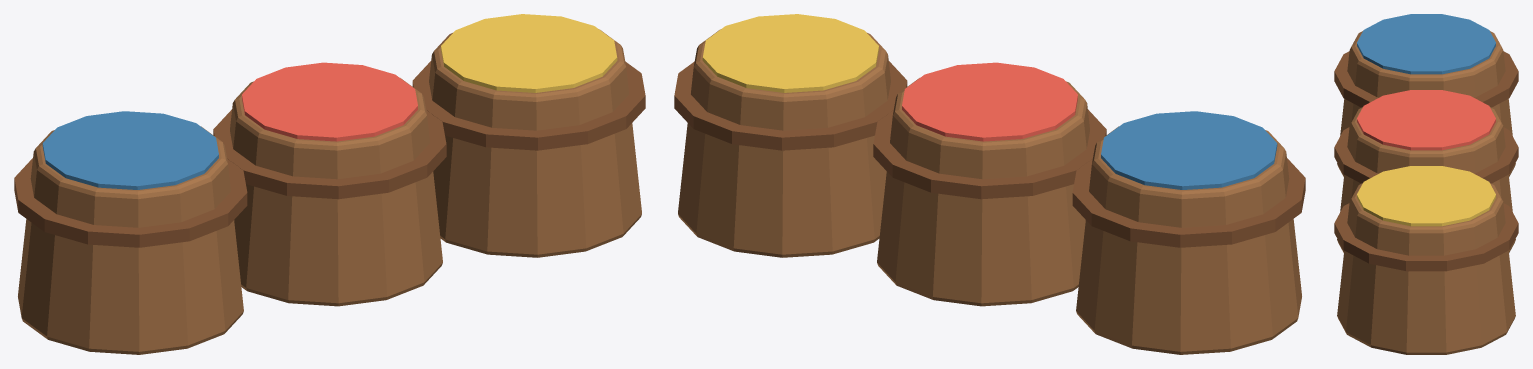
The model's file is goc-nhuom.glb.
3 renders of one model, left to right at view 1: azimuth 30°, elevation 25°; view 2: azimuth 150°, elevation 25°; view 3: azimuth 270°, elevation 25°, orthographic. The views are drawn at different scales.
Parts seen in each view (by area): view 1: goc-nhuom-0, goc-nhuom-6, goc-nhuom-3, goc-nhuom-2, goc-nhuom-8, goc-nhuom-5, goc-nhuom-1, goc-nhuom-7, goc-nhuom-4; view 2: goc-nhuom-0, goc-nhuom-6, goc-nhuom-3, goc-nhuom-2, goc-nhuom-8, goc-nhuom-5, goc-nhuom-1, goc-nhuom-7, goc-nhuom-4; view 3: goc-nhuom-6, goc-nhuom-2, goc-nhuom-5, goc-nhuom-8, goc-nhuom-3, goc-nhuom-0, goc-nhuom-7, goc-nhuom-1, goc-nhuom-4.
Part boxes in pixels (x1=…): goc-nhuom-0: x1=18, y1=126, x2=243, y2=354; goc-nhuom-6: x1=429, y1=29, x2=641, y2=257; goc-nhuom-3: x1=230, y1=78, x2=442, y2=306; goc-nhuom-2: x1=42, y1=111, x2=218, y2=189; goc-nhuom-8: x1=441, y1=14, x2=617, y2=92; goc-nhuom-5: x1=242, y1=62, x2=417, y2=141; goc-nhuom-1: x1=14, y1=158, x2=247, y2=247; goc-nhuom-7: x1=412, y1=61, x2=645, y2=150; goc-nhuom-4: x1=213, y1=109, x2=446, y2=199; goc-nhuom-0: x1=1076, y1=126, x2=1301, y2=354; goc-nhuom-6: x1=678, y1=29, x2=890, y2=257; goc-nhuom-3: x1=877, y1=78, x2=1089, y2=306; goc-nhuom-2: x1=1101, y1=111, x2=1277, y2=189; goc-nhuom-8: x1=702, y1=14, x2=878, y2=92; goc-nhuom-5: x1=902, y1=62, x2=1077, y2=141; goc-nhuom-1: x1=1072, y1=158, x2=1305, y2=247; goc-nhuom-7: x1=674, y1=61, x2=907, y2=150; goc-nhuom-4: x1=873, y1=109, x2=1106, y2=199; goc-nhuom-6: x1=1337, y1=183, x2=1515, y2=354; goc-nhuom-2: x1=1357, y1=14, x2=1495, y2=74; goc-nhuom-5: x1=1357, y1=90, x2=1495, y2=150; goc-nhuom-8: x1=1357, y1=166, x2=1495, y2=226; goc-nhuom-3: x1=1337, y1=107, x2=1515, y2=252; goc-nhuom-0: x1=1337, y1=31, x2=1515, y2=176; goc-nhuom-7: x1=1334, y1=203, x2=1518, y2=271; goc-nhuom-1: x1=1334, y1=51, x2=1518, y2=107; goc-nhuom-4: x1=1334, y1=127, x2=1518, y2=183.
Bounding box in the file's own units: 2.4 × 0.615 × 0.82.
